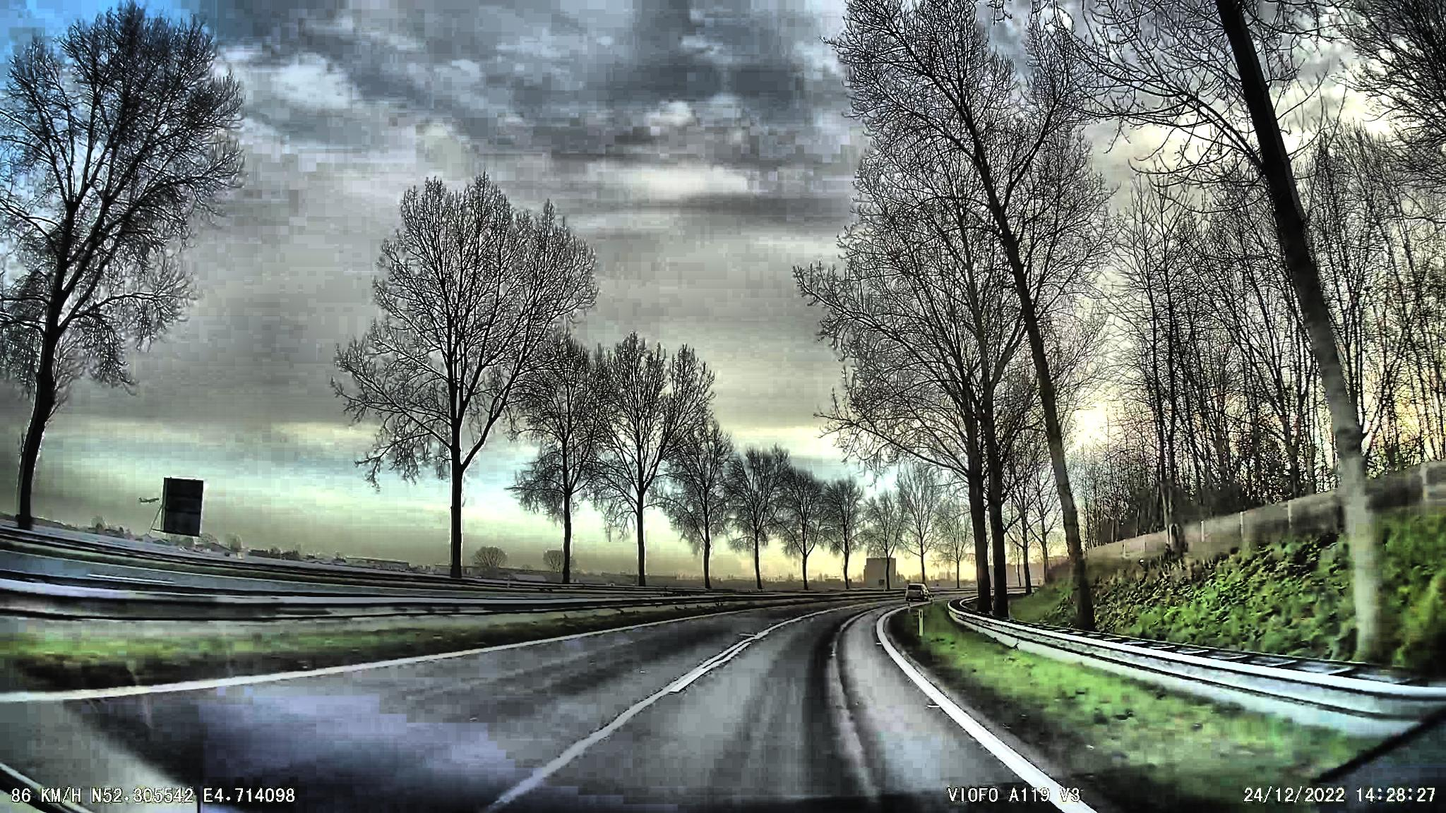Roads: (0, 607, 1111, 813)
